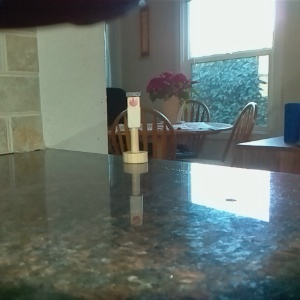traffic light red: (120, 91, 149, 166)
